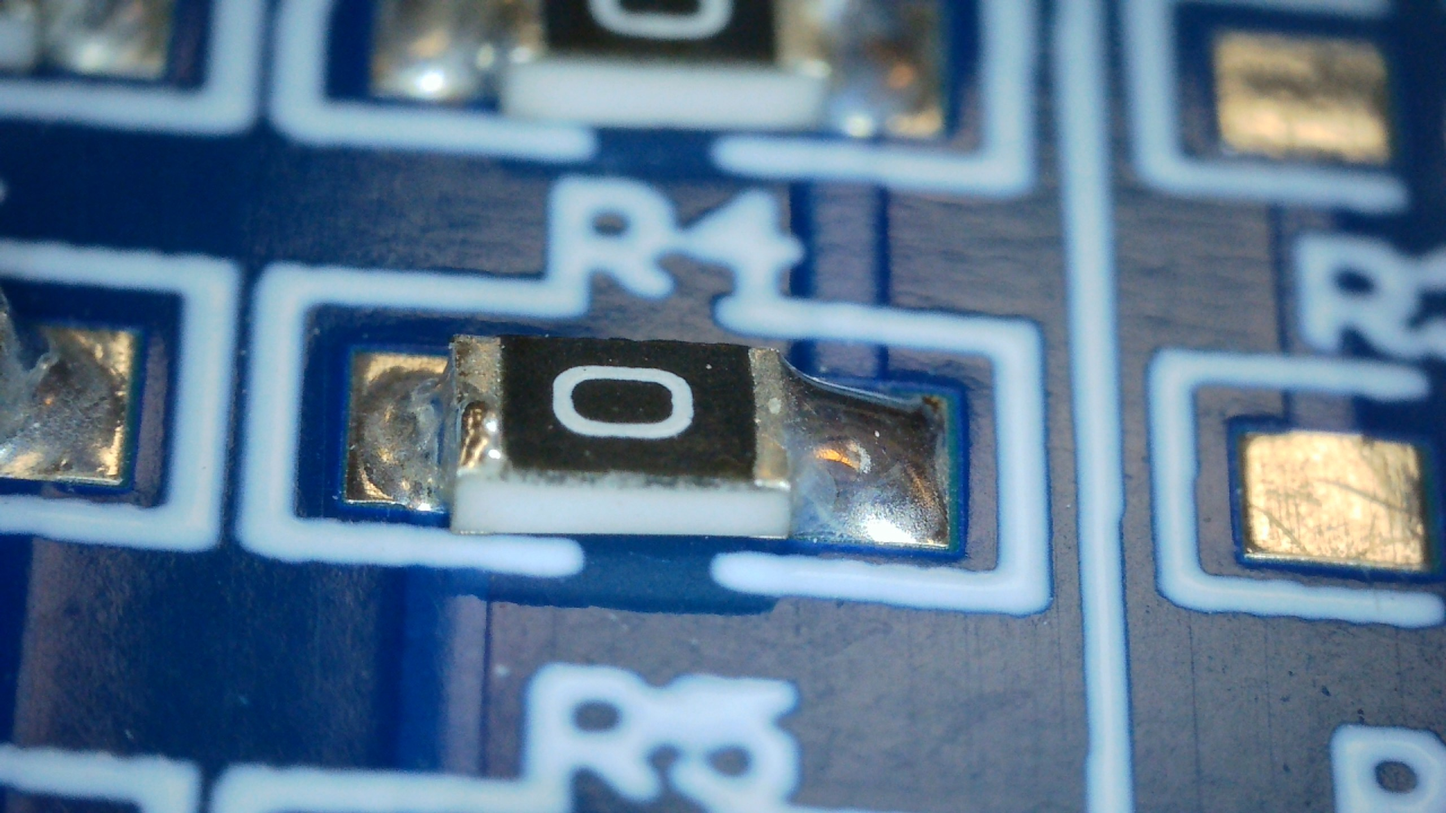NG: (363, 335, 498, 511)
OK: (752, 348, 948, 547)
